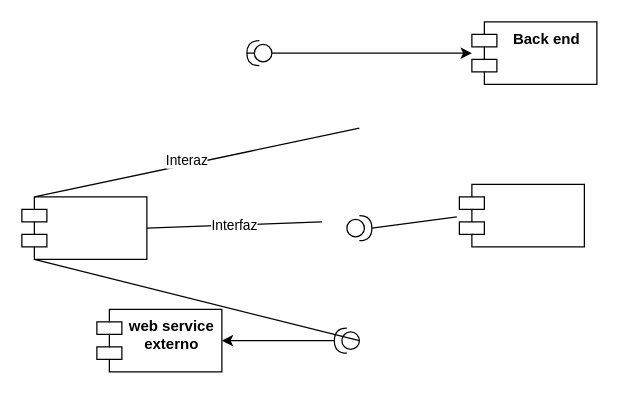
Image size: 619x394. Some labels were removed from this diagram. The shapes that lost their labels are listed below. From the top down, each one's centre as x and y in pixels, then its label:
At [84,227]: "Front ent (interfaz)".
At [521,215]: "Base de datos".
